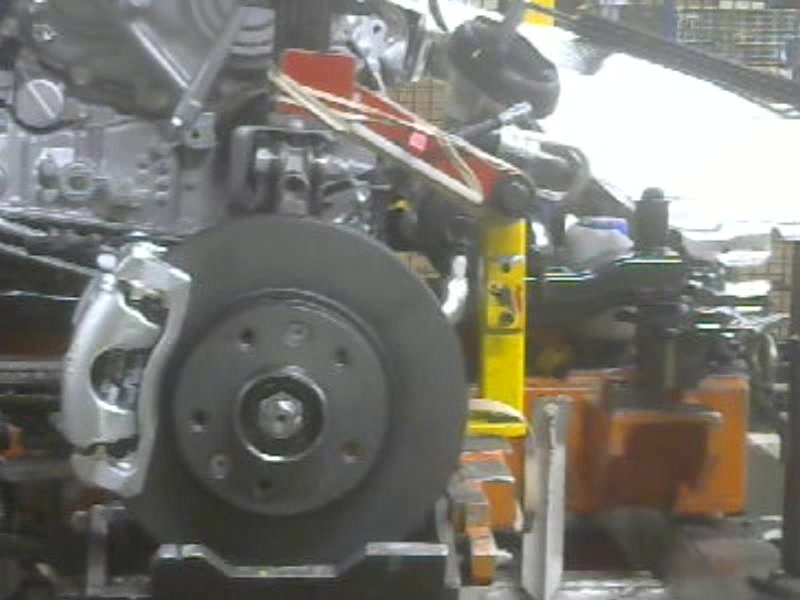DD3: (175, 211, 468, 543)
P3: (55, 235, 195, 498)
